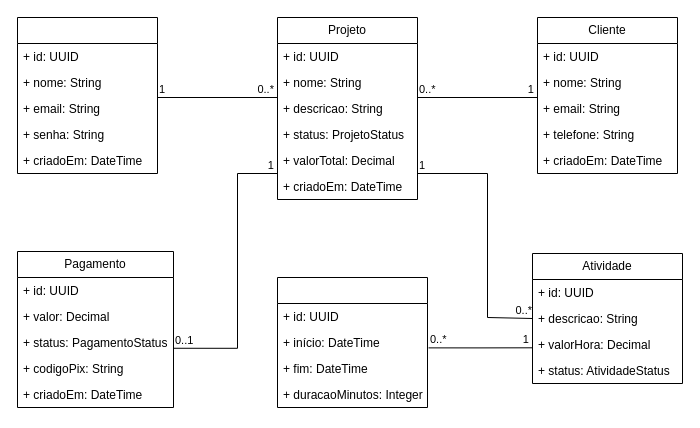
Image size: 700x428. Some labels were removed from this diagram. The box of each missing label's shape, as (x1, y1, x2, y2) in pixels:
Freelancer: (16, 16, 158, 174)
RegistroHoras: (276, 276, 428, 408)
